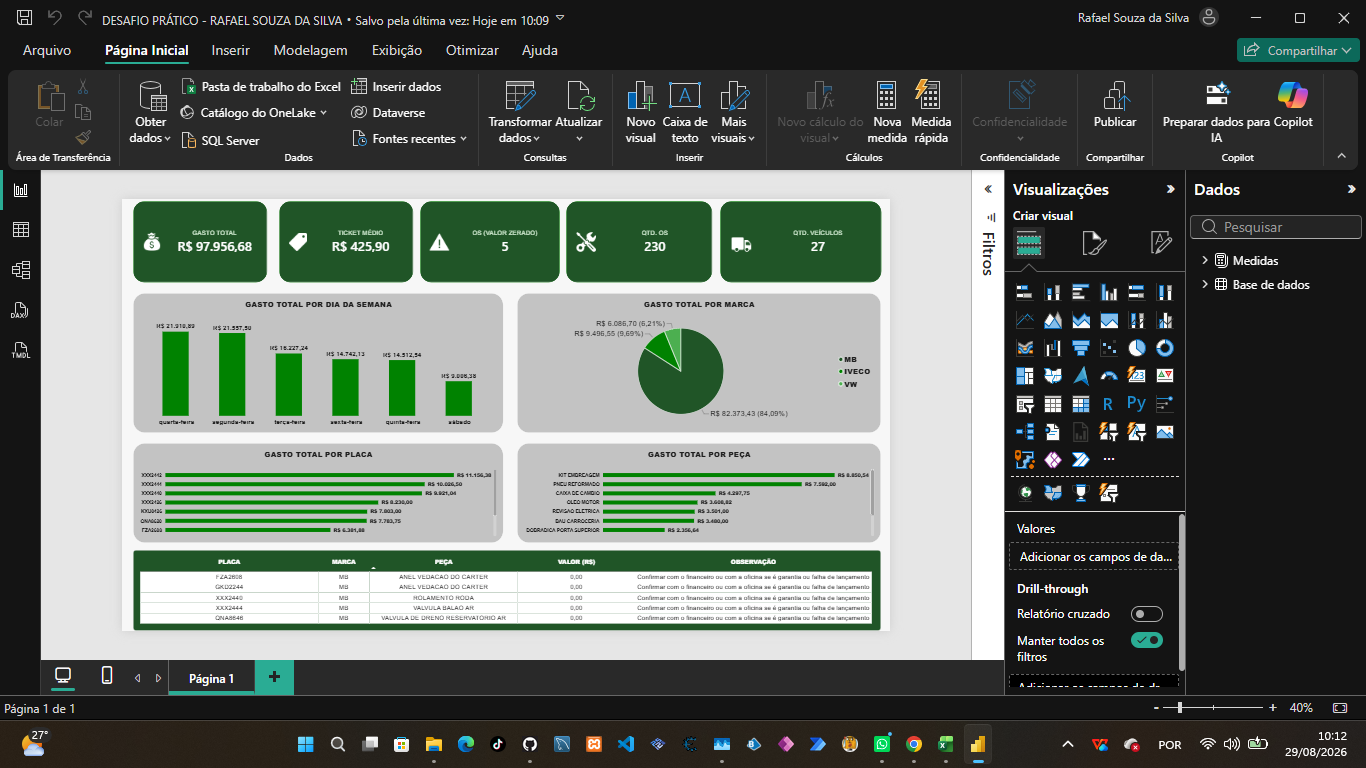

The dashboard page shown, as its layout file describes it:
{"tool":"powerbi","page":{"name":"Página 1","canvas":[1920,1080],"ordinal":0},"visuals":[{"type":"cardVisual","fields":{"Data":["Base de dados.Ticket Médio"]},"box":[392,6,336,204],"z":0},{"type":"cardVisual","fields":{"Data":["Base de dados.OS com Valor Zerado"]},"box":[744,6,350,204],"z":1000},{"type":"cardVisual","fields":{"Data":["Base de dados.QTD. OS"]},"box":[1110,6,366,204],"z":2000},{"type":"cardVisual","fields":{"Data":["Base de dados.QTD. VEÍCULOS"]},"box":[1494,6,404,204],"z":3000},{"type":"pieChart","title":"GASTO TOTAL POR MARCA","fields":{"Category":["Base de dados.MARCA"],"Y":["Base de dados.Gasto Total"]},"box":[988,236,910,350],"z":4000},{"type":"lineClusteredColumnComboChart","title":"GASTO TOTAL POR DIA DA SEMANA","fields":{"Category":["Base de dados.Nome do dia"],"Y":["Base de dados.Gasto Total"]},"box":[28,236,926,350],"z":5000},{"type":"clusteredBarChart","title":"GASTO TOTAL POR PEÇA","fields":{"Category":["Base de dados.Peça"],"Y":["Base de dados.Gasto Total"]},"box":[988,610,910,250],"z":6000},{"type":"clusteredBarChart","title":"GASTO TOTAL POR PLACA","fields":{"Category":["Base de dados.Placa"],"Y":["Base de dados.Gasto Total"]},"box":[28,610,926,250],"z":7000},{"type":"tableEx","fields":{"Values":["Base de dados.Placa","Base de dados.MARCA","Base de dados.Peça","Sum(Base de dados.Valor (R$))","Base de dados.Observação"]},"box":[28,878,1870,202],"z":8000},{"type":"cardVisual","fields":{"Data":["Base de dados.GASTO TOTAL"]},"box":[28,6,336,204],"z":9000}]}

Visuals, with their boxes on the page's 1920x1080 design canvas (x1, y1, x2, y2). These are canvas units, not pixel positions in the 1366x768 screenshot, which may show the page scaled, cropped or inside an application window:
cardVisual - Base de dados.Ticket Médio: select_region(392, 6, 728, 210)
cardVisual - Base de dados.OS com Valor Zerado: select_region(744, 6, 1094, 210)
cardVisual - Base de dados.QTD. OS: select_region(1110, 6, 1476, 210)
cardVisual - Base de dados.QTD. VEÍCULOS: select_region(1494, 6, 1898, 210)
"GASTO TOTAL POR MARCA" pieChart: select_region(988, 236, 1898, 586)
"GASTO TOTAL POR DIA DA SEMANA" lineClusteredColumnComboChart: select_region(28, 236, 954, 586)
"GASTO TOTAL POR PEÇA" clusteredBarChart: select_region(988, 610, 1898, 860)
"GASTO TOTAL POR PLACA" clusteredBarChart: select_region(28, 610, 954, 860)
tableEx - Base de dados.Placa x Base de dados.MARCA: select_region(28, 878, 1898, 1080)
cardVisual - Base de dados.GASTO TOTAL: select_region(28, 6, 364, 210)
